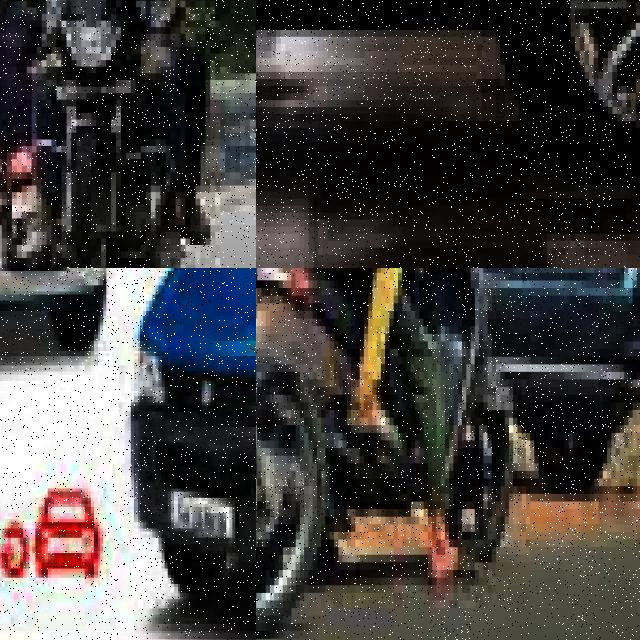bike: (256, 268, 521, 600), (11, 0, 215, 268), (256, 268, 338, 640)
car: (256, 0, 640, 184), (115, 268, 256, 630)
